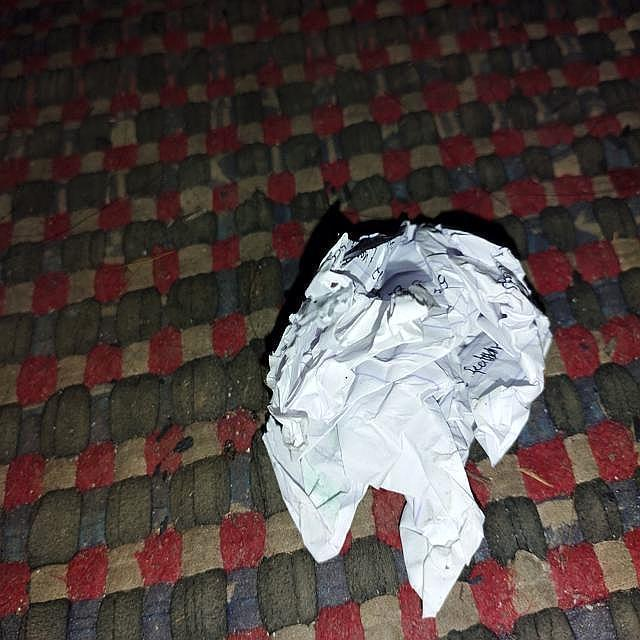Biodegradable: (261, 217, 551, 617)
